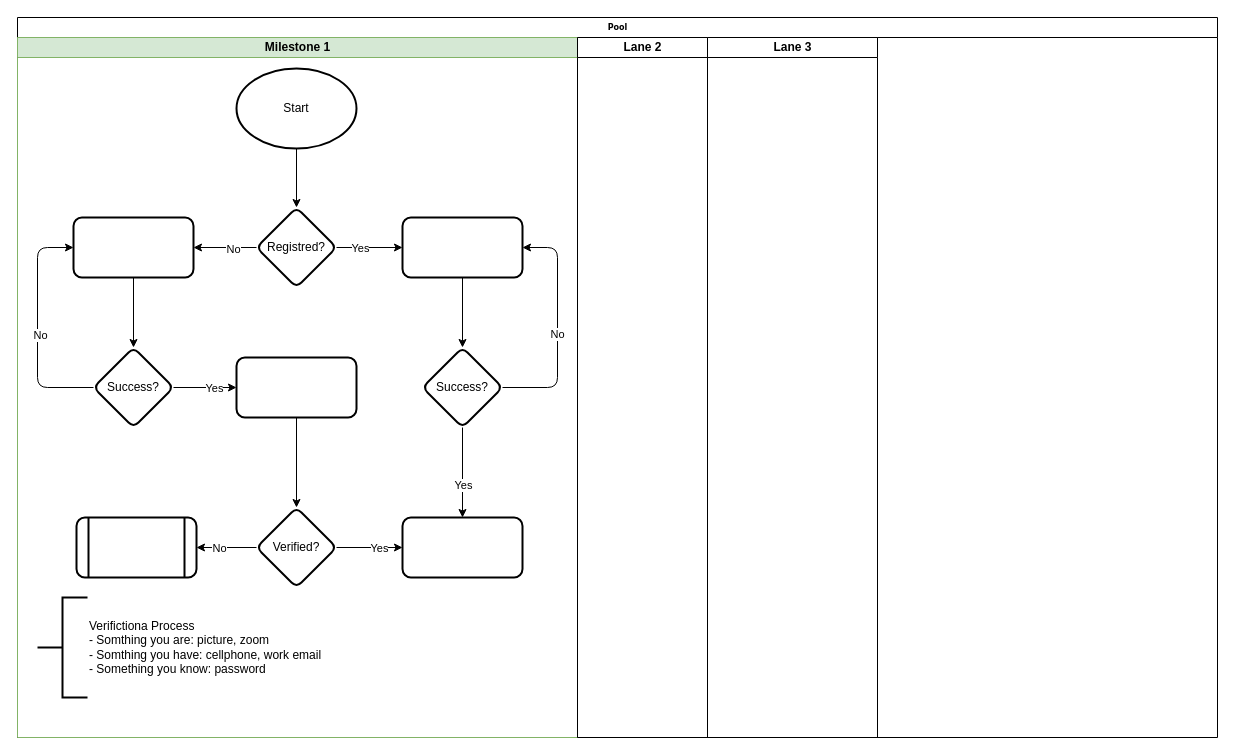
This 1235x755 diagram has some shape labels left out. Here are the shapes that lost their labels. From the top down, the box of each, then its label:
(72, 216, 194, 278): Register a New Member
(401, 216, 523, 278): Authenticate and Autorize
(235, 356, 357, 418): Validate Identity
(75, 516, 197, 578): Process Rejected Users
(401, 516, 523, 578): Provide Access to Home Page
